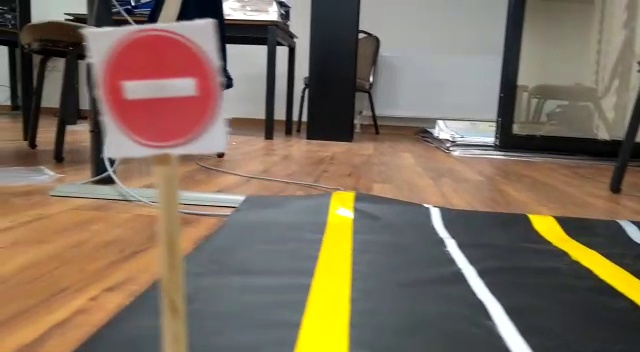girisi_olmayan_yol: (88, 27, 226, 147)
